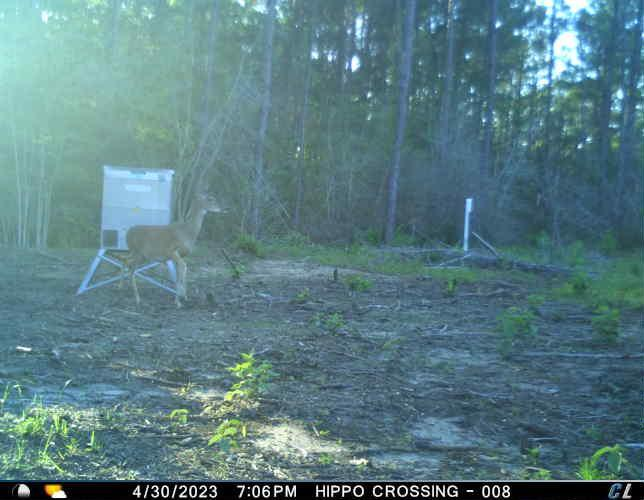Deer: (118, 176, 231, 311)
